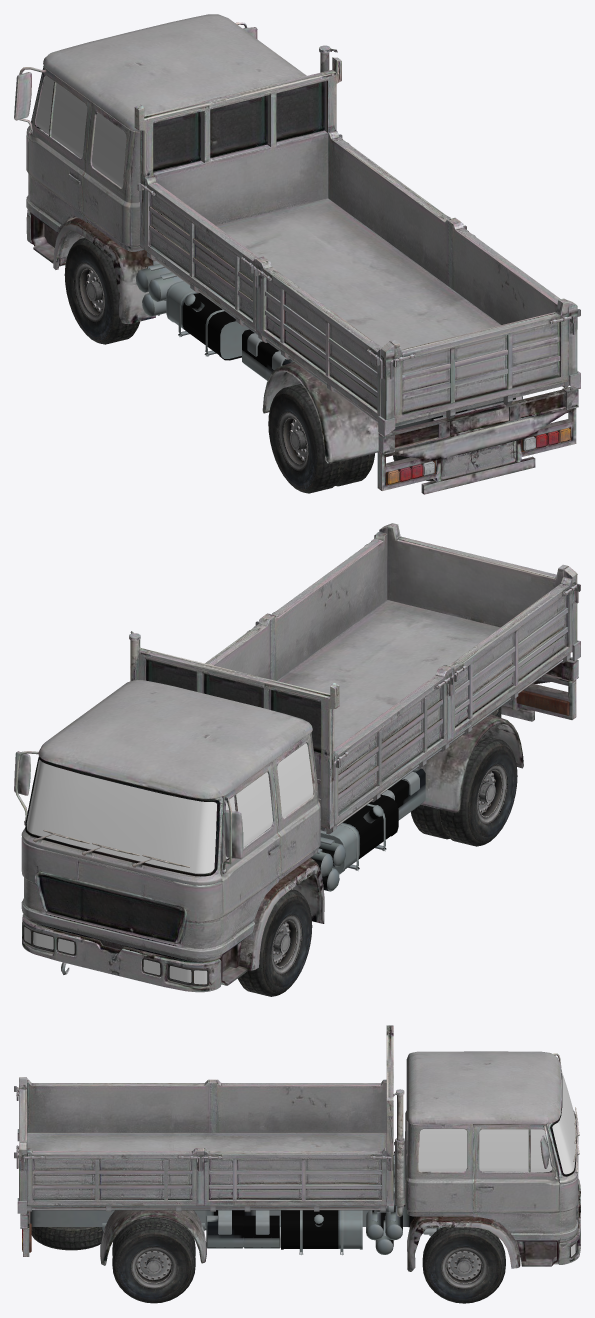
File: UN Truck 1.fbx
3 views of the same model, one above another, from view 1: azimuth 30°, elevation 25°; view 2: azimuth 150°, elevation 25°; view 3: azimuth 270°, elevation 25° (orthographic). The views are drawn at different scales.
Visible parts, largest first — view 1: Ranchero truckedit; view 2: Ranchero truckedit; view 3: Ranchero truckedit.
Boxes of the visible parts, x1=… form: Ranchero truckedit: x1=14, y1=14, x2=580, y2=494; Ranchero truckedit: x1=14, y1=523, x2=580, y2=996; Ranchero truckedit: x1=14, y1=1025, x2=580, y2=1303.
Size of the model in its own units: 36.18 by 41.2 by 99.81.
